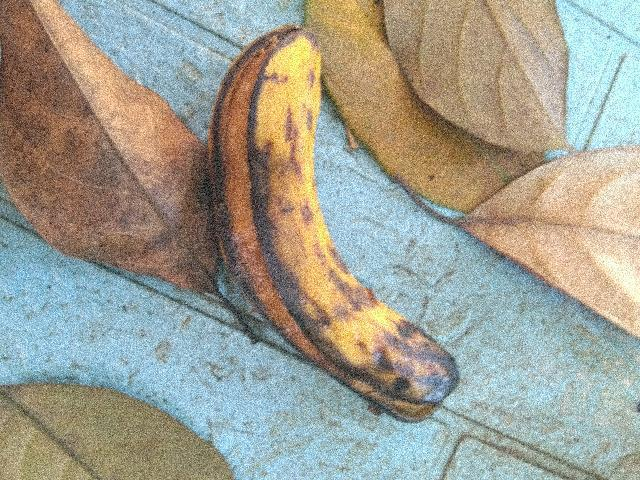rotten: (196, 23, 511, 458)
